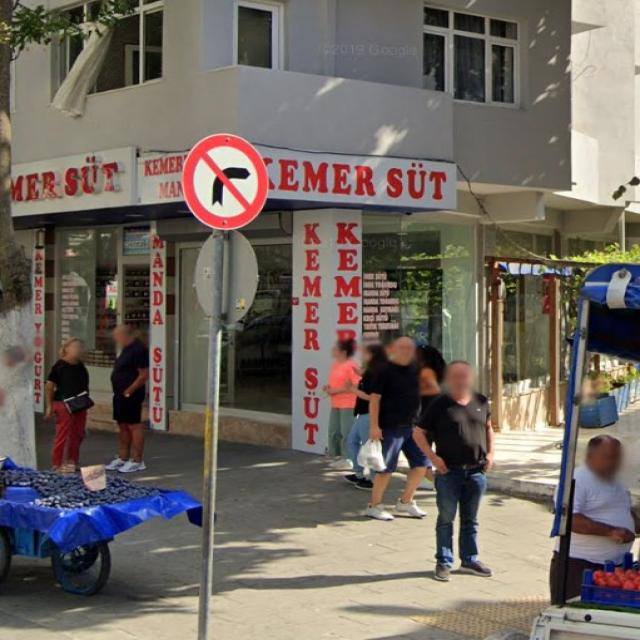sagadonulmez: (182, 134, 266, 231)
